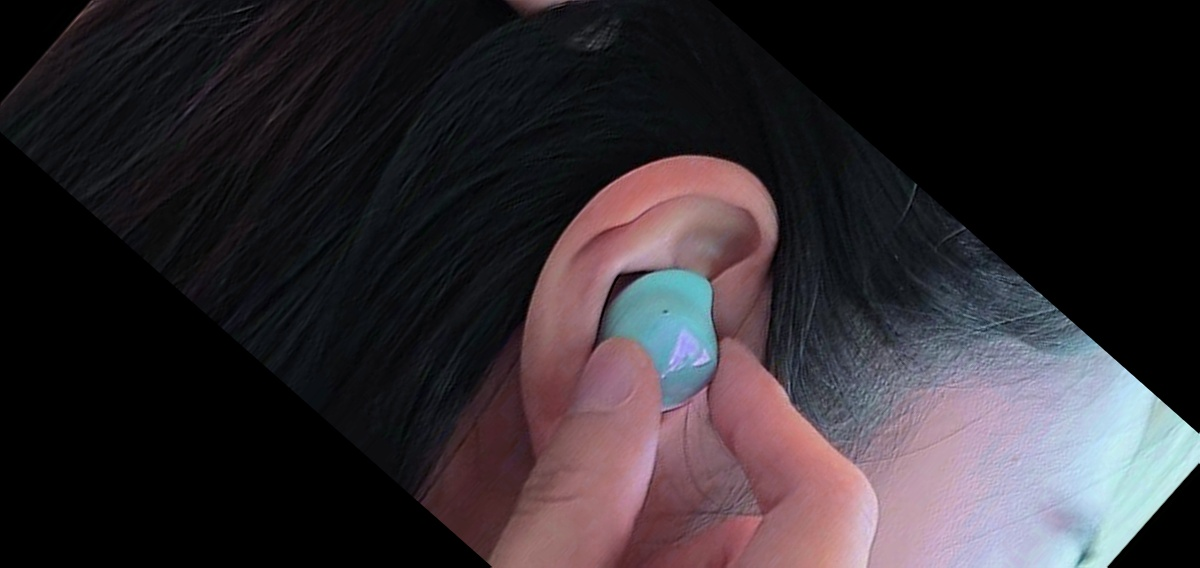earphone: (430, 107, 855, 543)
